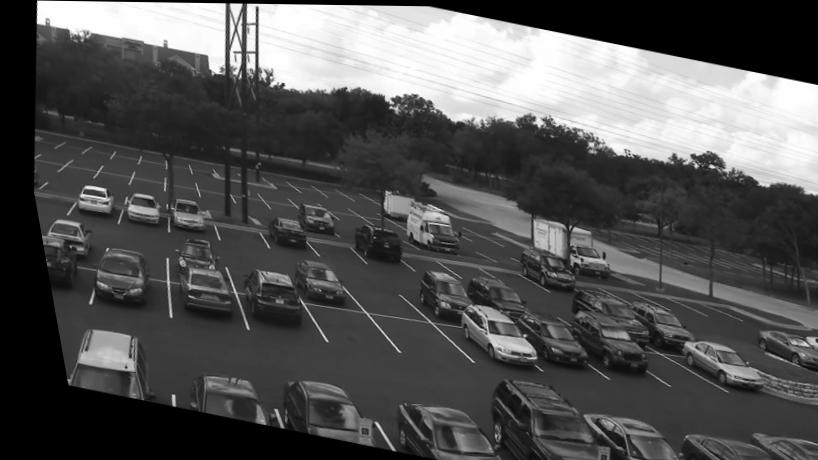empty: (371, 312, 462, 359), (632, 349, 710, 391), (295, 305, 374, 345), (337, 276, 401, 310), (207, 221, 263, 248), (104, 231, 154, 258), (477, 268, 535, 288), (303, 240, 353, 262), (431, 260, 485, 278), (27, 191, 69, 214), (522, 297, 565, 317), (659, 297, 715, 312), (444, 225, 490, 242), (222, 255, 265, 273), (39, 174, 77, 194), (631, 294, 681, 309), (122, 176, 160, 195), (396, 253, 441, 269), (89, 169, 127, 187), (225, 194, 266, 210), (188, 188, 230, 203), (593, 286, 640, 299), (257, 172, 290, 190), (95, 160, 129, 177), (159, 182, 192, 199), (55, 163, 92, 178), (217, 184, 253, 199), (158, 158, 188, 175), (357, 215, 396, 228), (325, 211, 364, 223), (28, 157, 60, 171), (128, 167, 160, 181), (190, 177, 222, 191), (87, 177, 116, 192), (287, 181, 318, 195), (279, 191, 312, 204), (33, 149, 68, 161), (158, 174, 193, 186), (249, 188, 284, 200), (341, 202, 376, 214), (29, 135, 61, 148), (66, 156, 98, 168), (134, 153, 161, 167), (182, 162, 211, 175), (312, 199, 346, 210), (257, 199, 291, 209), (314, 186, 342, 198), (327, 223, 355, 235), (57, 141, 82, 154), (337, 191, 369, 201), (110, 150, 133, 163), (82, 147, 107, 158), (248, 212, 271, 223)
occupied: (467, 376, 598, 460), (253, 372, 377, 450), (368, 402, 488, 460), (53, 326, 141, 401), (440, 302, 525, 362), (566, 411, 665, 460), (559, 308, 635, 368), (503, 309, 580, 364), (229, 266, 297, 327), (178, 369, 252, 424), (669, 339, 750, 389), (83, 243, 138, 305), (169, 263, 224, 317), (747, 328, 814, 370), (398, 200, 451, 253), (513, 245, 570, 294), (455, 274, 516, 319), (664, 432, 761, 460), (622, 299, 679, 346), (408, 269, 461, 316), (563, 289, 632, 325), (33, 232, 73, 291), (286, 259, 340, 302), (737, 435, 818, 460), (345, 224, 393, 265), (39, 219, 84, 253), (71, 183, 107, 218), (260, 216, 297, 250), (164, 238, 204, 267), (292, 202, 329, 233), (165, 198, 198, 230), (120, 193, 152, 224)
